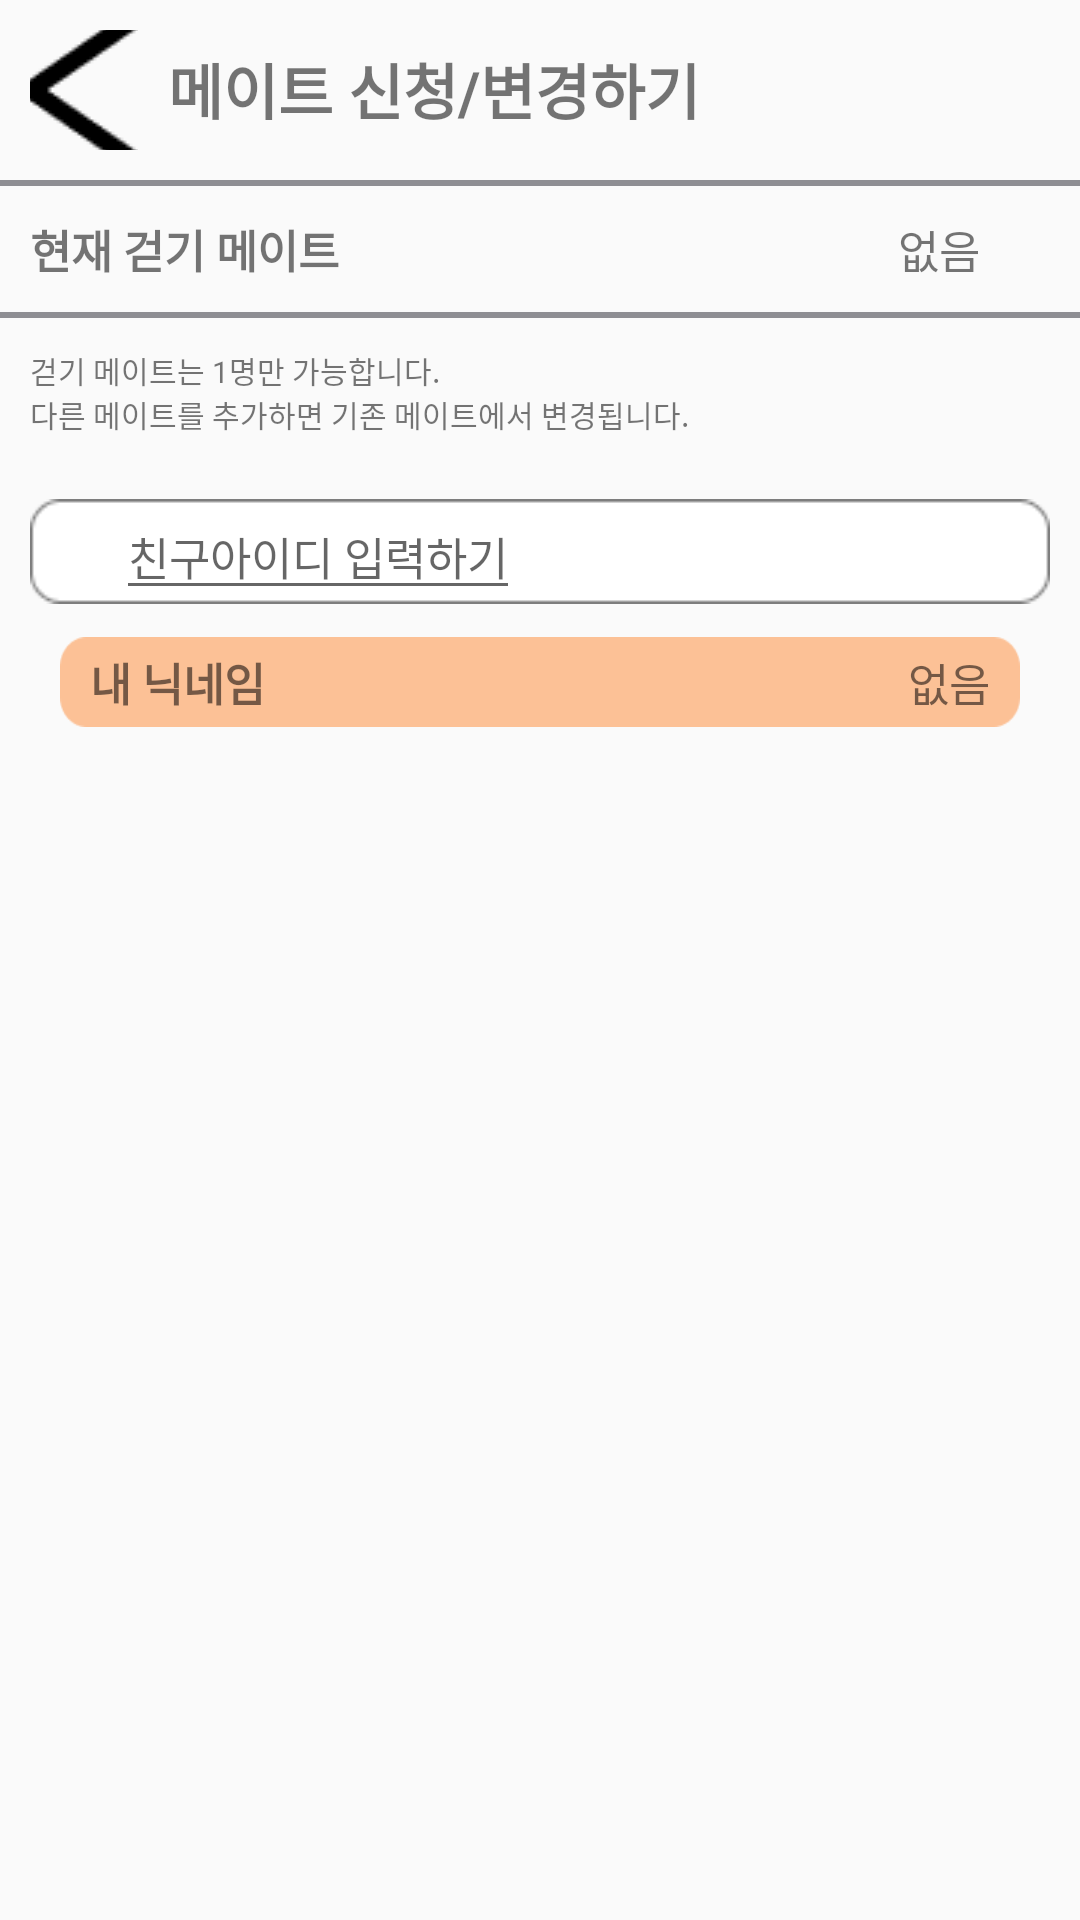

Icon bounding boxes for this 1080px x 1920px phone screenshot, format box(x1, y1, x2, y2):
back: box(30, 30, 138, 150)
